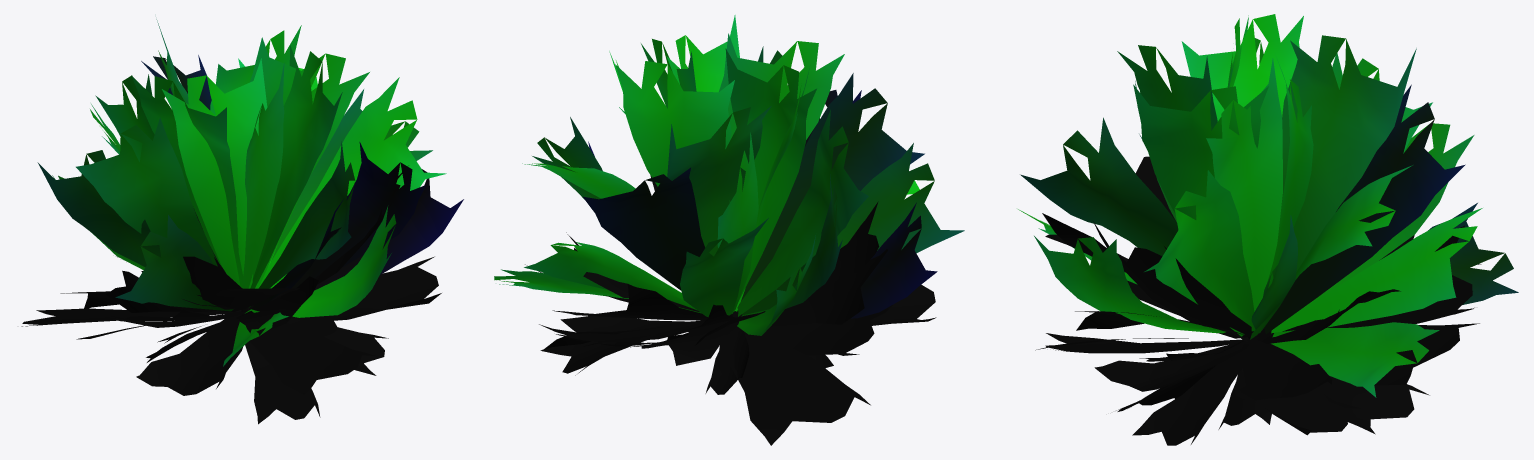
File: Fountain_2_Mesh.fbx
The picture shows the model from 3 angles, left to right: view 1: azimuth 30°, elevation 25°; view 2: azimuth 150°, elevation 25°; view 3: azimuth 270°, elevation 25°; orthographic projection. The views are drawn at different scales.
Visible parts, largest first — view 1: Fountain_2_LOD0; view 2: Fountain_2_LOD0; view 3: Fountain_2_LOD0.
Boxes of the visible parts, bbox=[...] form: Fountain_2_LOD0: bbox=[21, 19, 463, 424]; Fountain_2_LOD0: bbox=[494, 15, 964, 445]; Fountain_2_LOD0: bbox=[1018, 14, 1518, 445].
Bounding box in the file's own units: 359 × 323 × 376.
